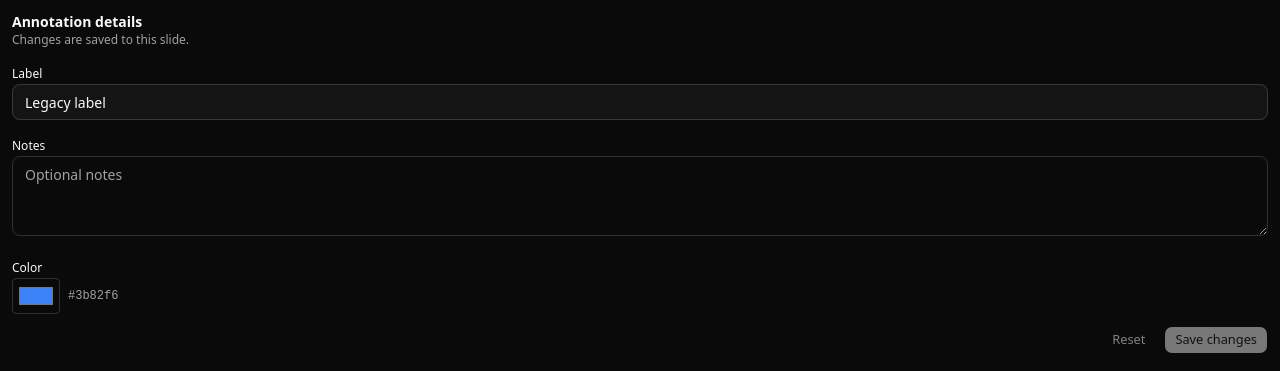
Test: AnnotationEditor › prevents duplicate saves while a request is pending
Type " updated" into the field labelled "Label". click: (640, 102)
box: [12, 84, 1268, 120]
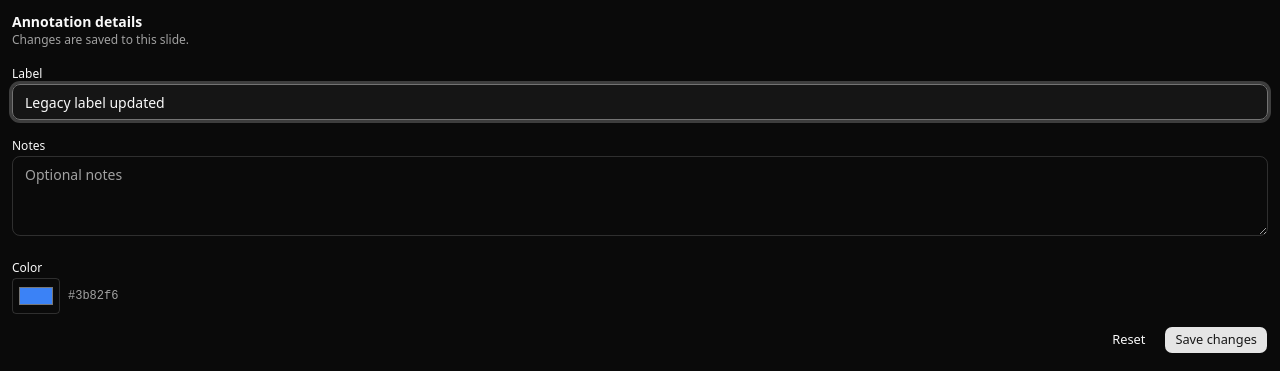
Click the button "Save changes". click: (1216, 340)
box: [1164, 326, 1268, 354]
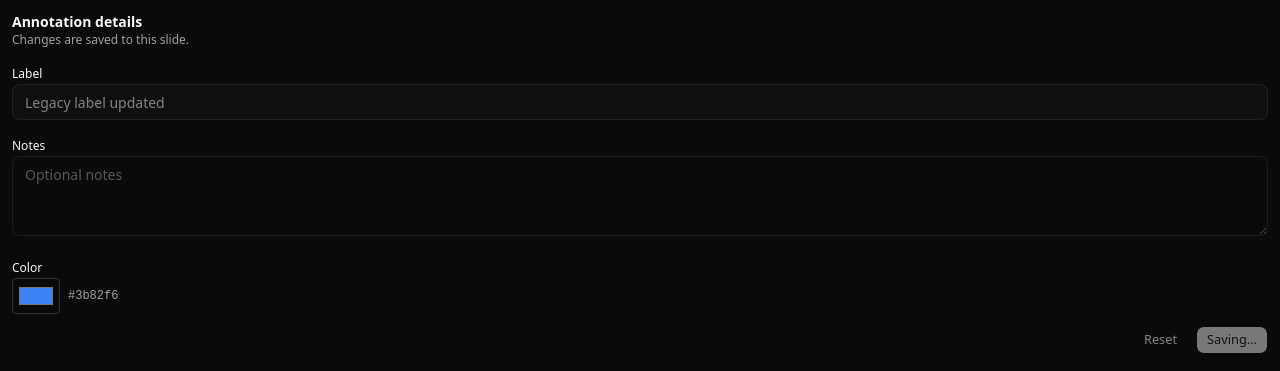
Result: the button "Saving…" is disabled
Click the button "Saving…". click: (1232, 340)
box: [1196, 326, 1268, 354]
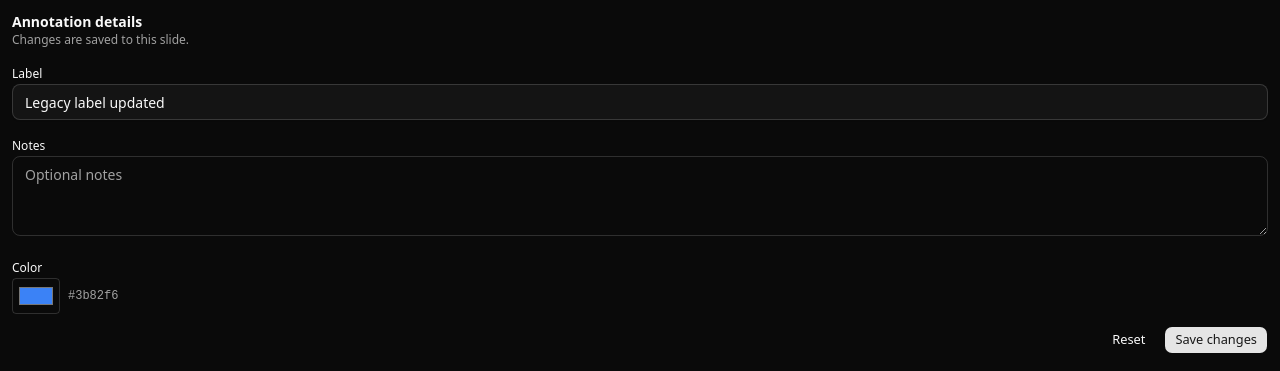
Result: the button "Save changes" is enabled at [1164, 326, 1268, 354]
